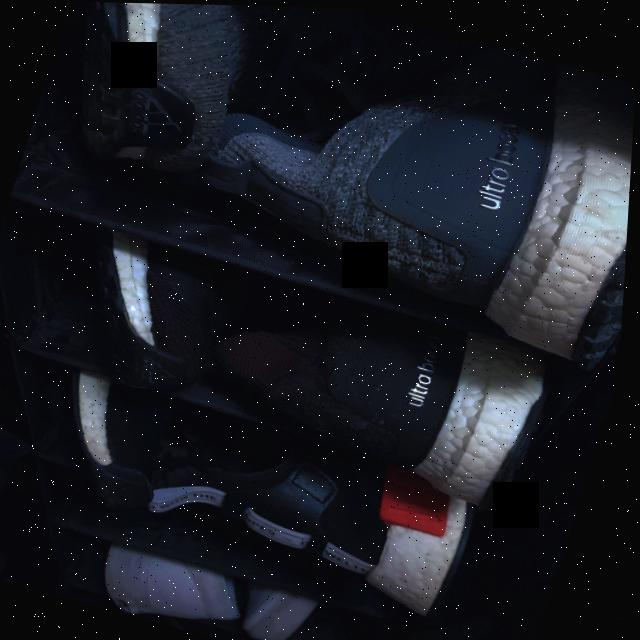shoes: (2, 0, 640, 369), (0, 185, 631, 511), (0, 337, 591, 640), (0, 492, 548, 640)
